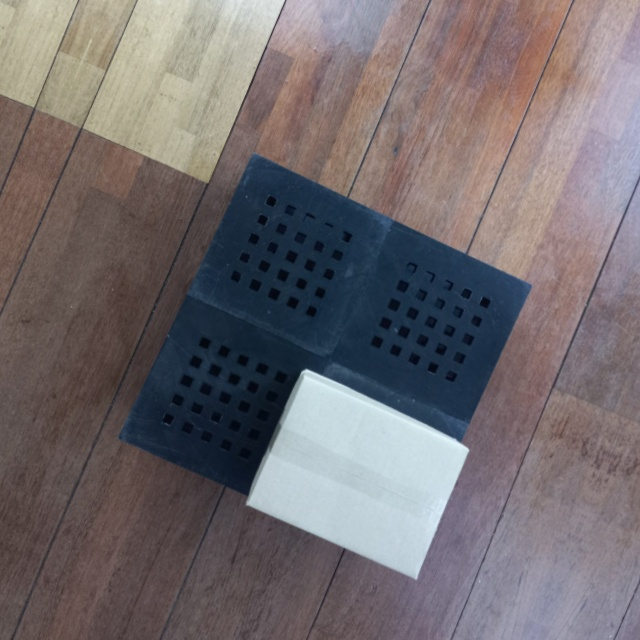box: (244, 365, 474, 583)
pallet: (115, 142, 539, 563)
